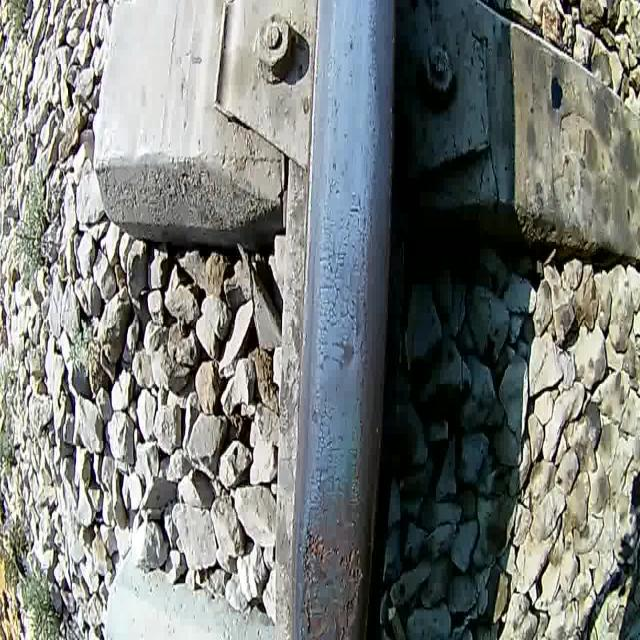Cracks: (309, 187, 377, 382), (306, 394, 371, 512)
Spallings: (297, 589, 365, 640), (297, 520, 339, 583), (336, 539, 366, 584)
Squats: (294, 490, 373, 640), (328, 330, 356, 374)
